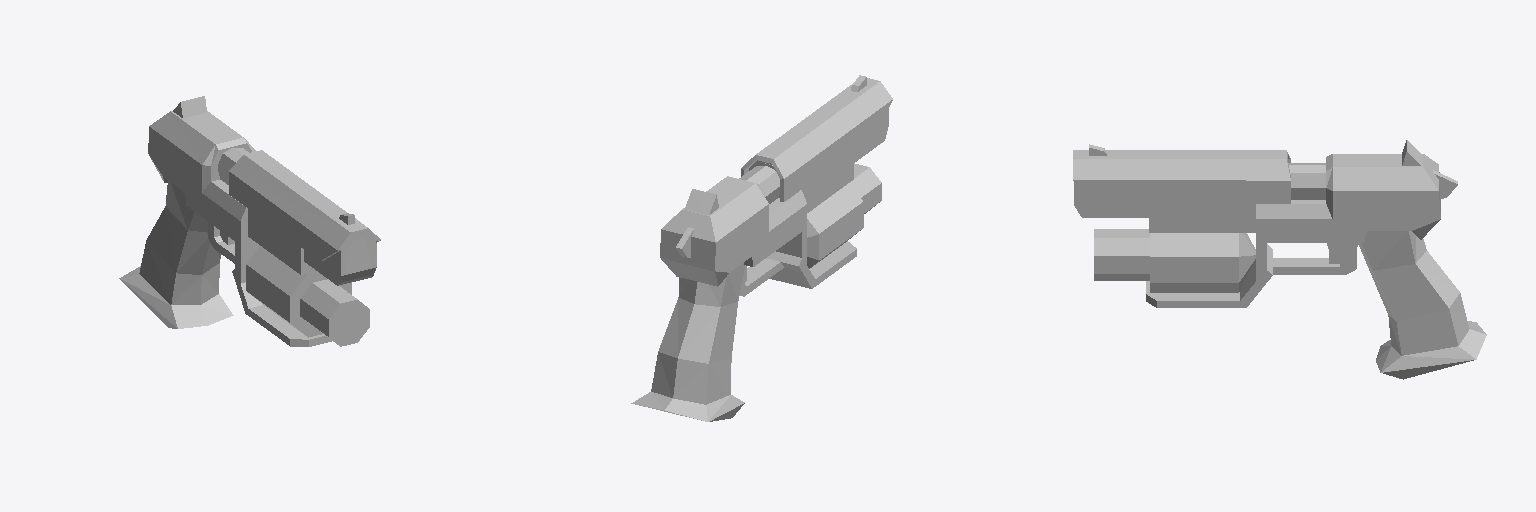
The model's file is WpnFoxBlaster.obj.
3 views of the same model, side by side, from view 1: azimuth 30°, elevation 25°; view 2: azimuth 150°, elevation 25°; view 3: azimuth 270°, elevation 25° (orthographic).
Parts seen in each view (by area): view 1: polygon0, polygon4; view 2: polygon0, polygon4; view 3: polygon0, polygon4.
Part boxes in pixels (left/top/right/bottom): polygon0: left=119, top=96, right=380, bottom=346; polygon4: left=304, top=238, right=376, bottom=285; polygon0: left=631, top=78, right=892, bottom=421; polygon4: left=749, top=109, right=888, bottom=197; polygon0: left=1073, top=140, right=1486, bottom=379; polygon4: left=1074, top=181, right=1148, bottom=217.
Size of the model in its own units: 1.09 by 3 by 5.07.